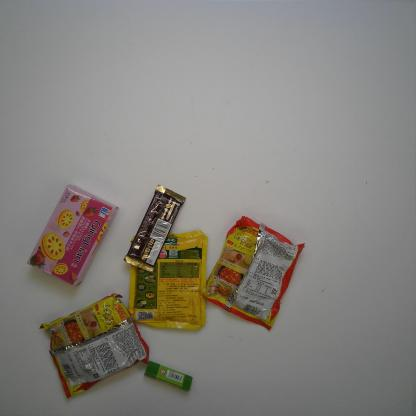Chocolate: (123, 183, 187, 273)
Dessert: (26, 184, 119, 288)
Instant Noodles: (202, 215, 306, 332), (39, 293, 150, 399)
Seasoner: (128, 230, 208, 330)
Stationery: (143, 361, 194, 392)
